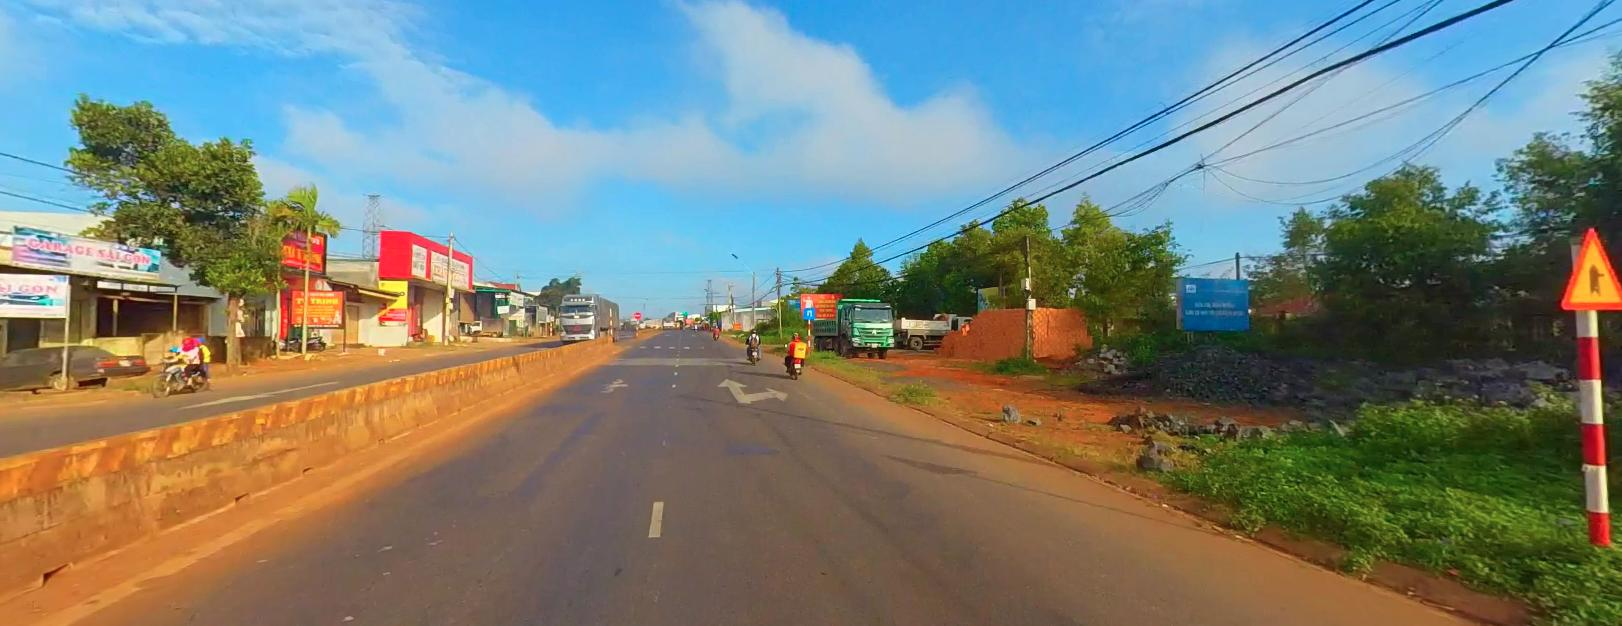Cam nguoc chieu: (634, 310, 641, 317)
Nguy hiem: (1558, 226, 1620, 311)
